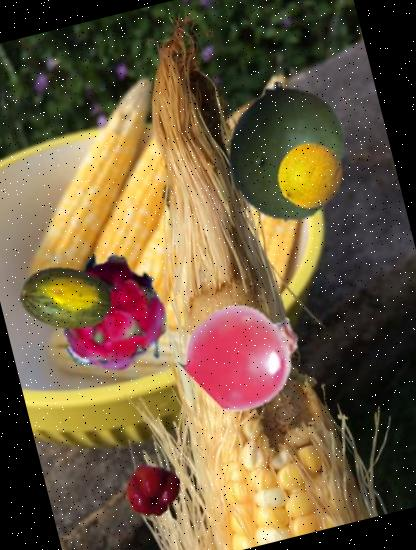Cantaloupe: (270, 135, 351, 216)
Mango: (202, 67, 373, 238)
Melon: (10, 242, 122, 354)
Pepper: (120, 456, 188, 524)
Pitahaya: (43, 248, 186, 392)
Redcurrant: (180, 287, 312, 420)
